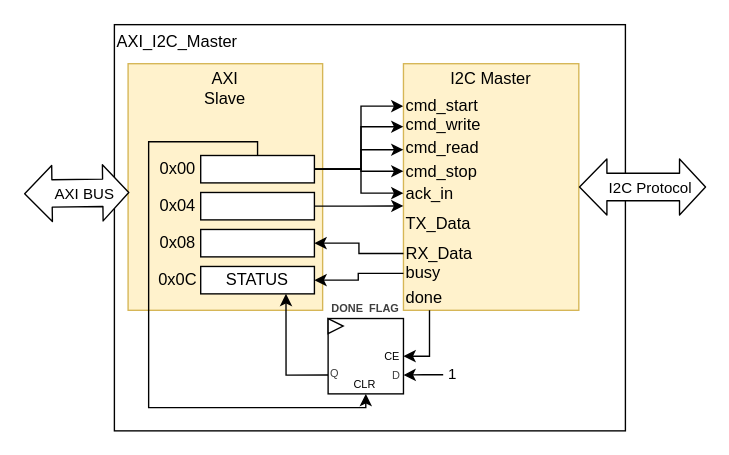
The diagram is 729 pixels wide and 455 high, and some of its shapes have lost their labels. The shapes that lost their labels are listed below. From the top down, each one's centre as x and y in pixels, then its label:
At (x=256, y=168): "CR".
At (x=256, y=205): "TXD".
At (x=256, y=242): "RXD".
